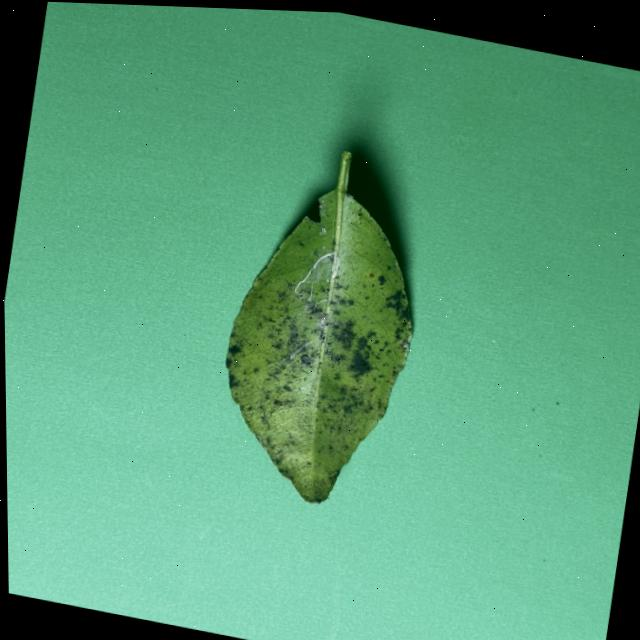sooty_mold: (225, 151, 411, 502)
